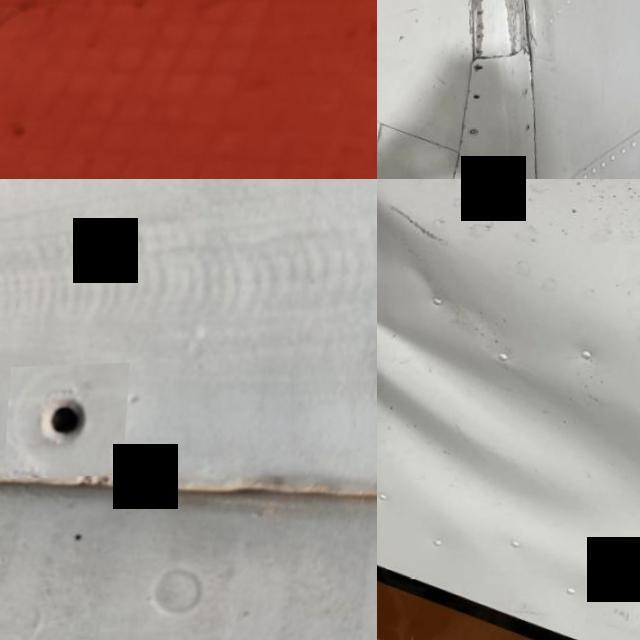Crack: (518, 0, 542, 72)
Dent: (377, 179, 640, 545)
Missing_Fastener: (9, 366, 134, 480), (479, 66, 488, 72), (471, 172, 478, 178), (530, 126, 536, 133), (478, 95, 484, 102), (479, 50, 485, 56), (480, 12, 486, 18), (480, 36, 485, 40)
